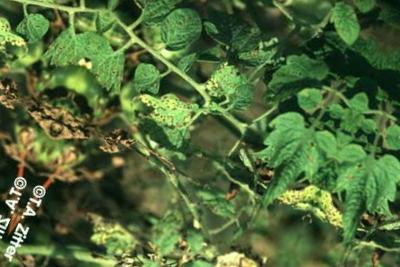Tomato Septoria leaf spot: (193, 52, 270, 127), (213, 9, 284, 85), (129, 79, 202, 140), (149, 0, 210, 65), (78, 32, 138, 97), (121, 54, 170, 107)
